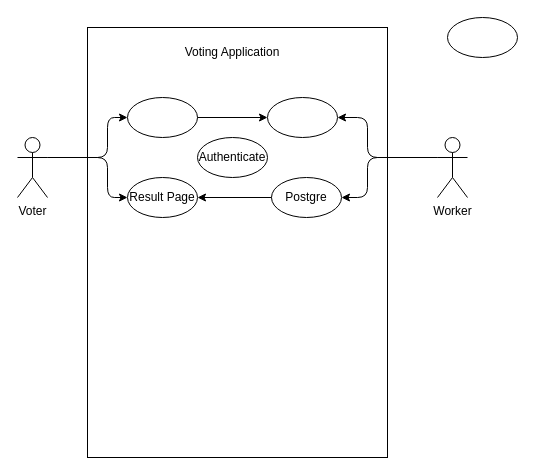
This 535x475 diagram has some shape labels left out. Each missing label, with the box of its shape:
Redis: (266, 96, 338, 138)
Vote Page: (126, 96, 198, 138)
